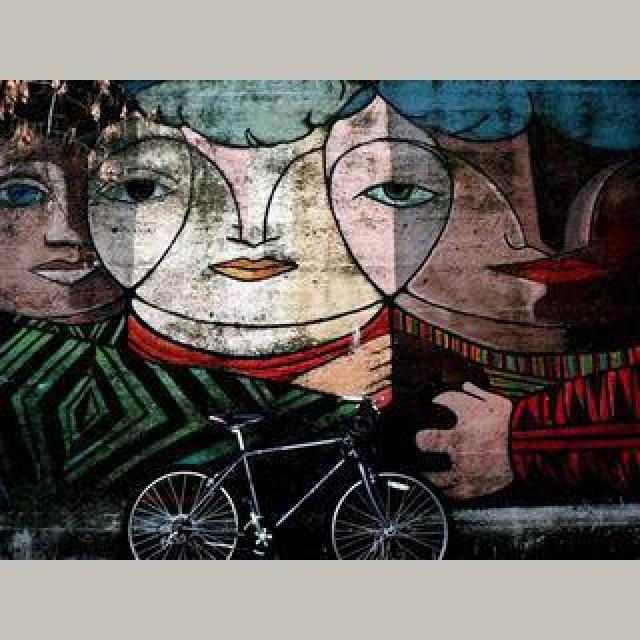Person: (118, 396, 462, 560)
